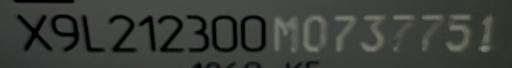letter: (16, 13, 52, 51), (444, 10, 474, 54), (106, 13, 138, 53), (359, 10, 387, 54), (50, 12, 80, 52), (155, 13, 185, 53), (210, 13, 240, 53), (80, 13, 110, 53), (269, 13, 299, 53), (390, 10, 416, 54), (418, 11, 444, 55), (182, 13, 210, 53), (300, 13, 328, 53), (328, 13, 356, 53), (240, 13, 268, 53), (474, 11, 498, 51), (136, 13, 156, 53)
